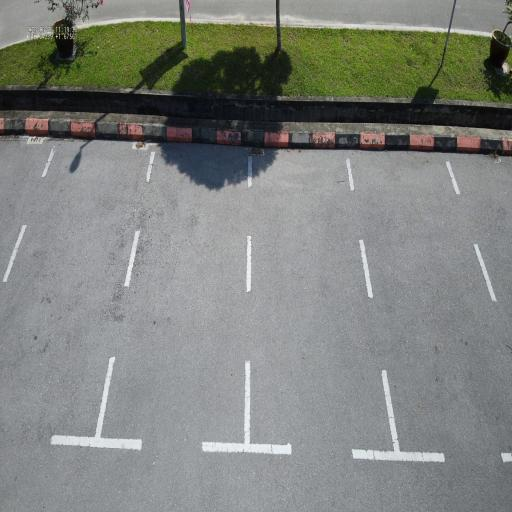Empty: (91, 137, 266, 465), (240, 136, 404, 469)
